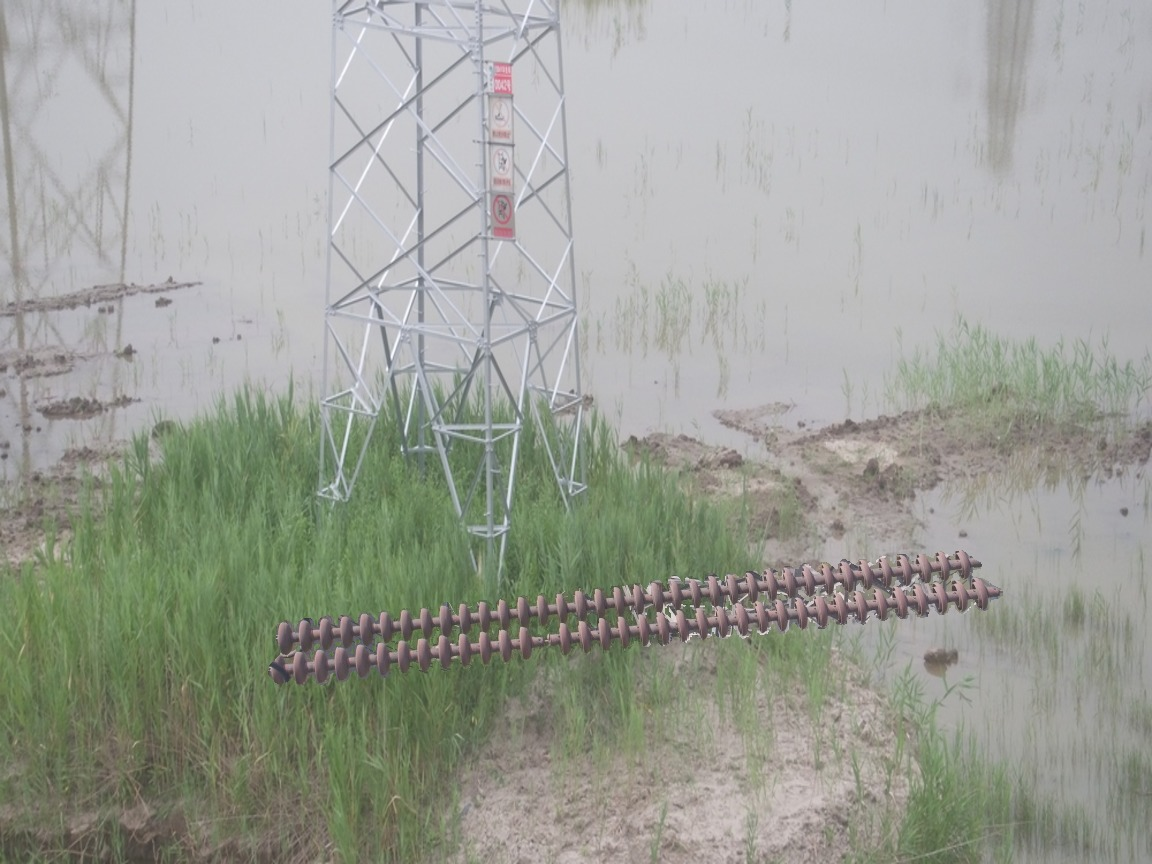defect: (508, 618, 578, 662)
